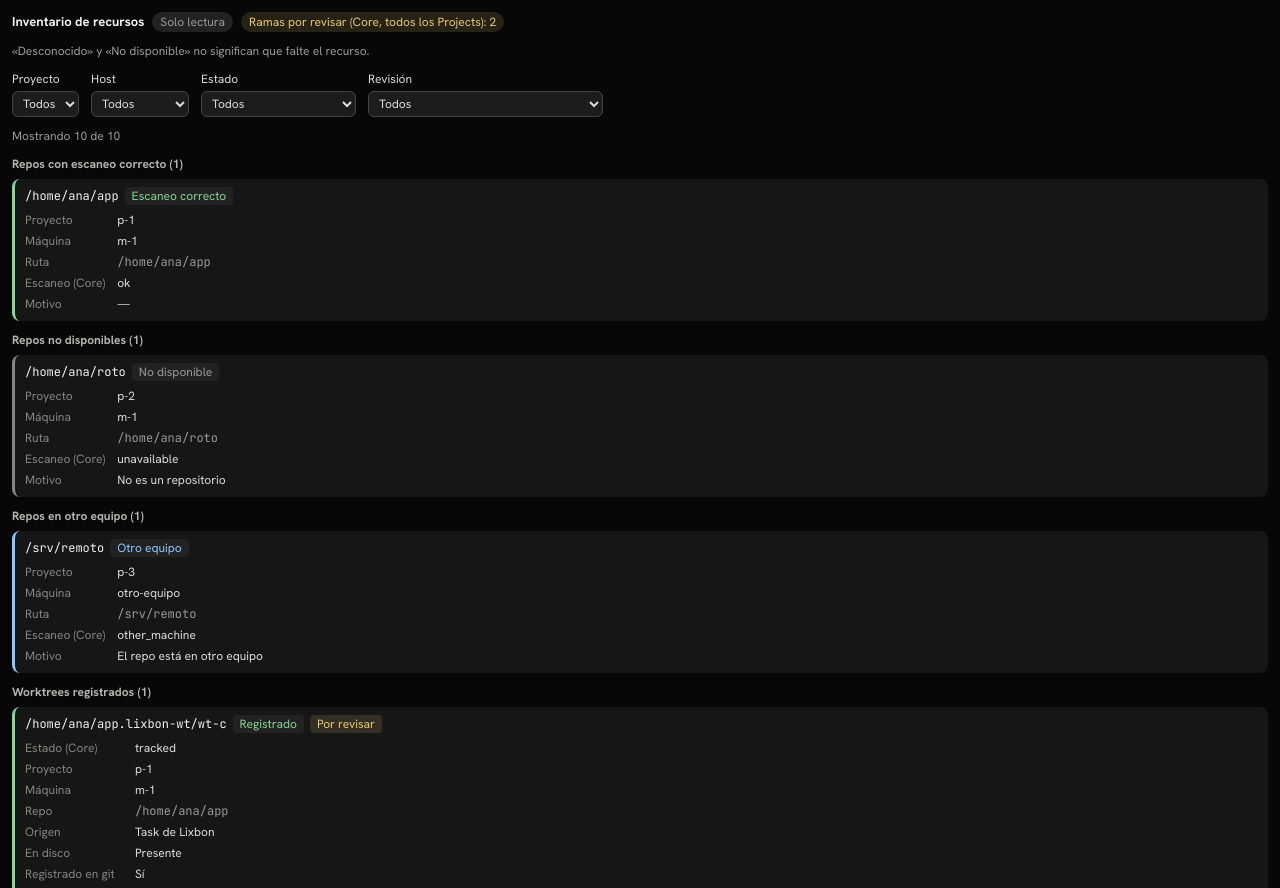
Test: ResourcesInventory · filtros › Host filtra por la máquina del target de Core, incluido otro equipo
Select "otro-equipo" in the dropdown labelled "Host" at (140, 104), box left=91, top=91, right=189, bottom=117
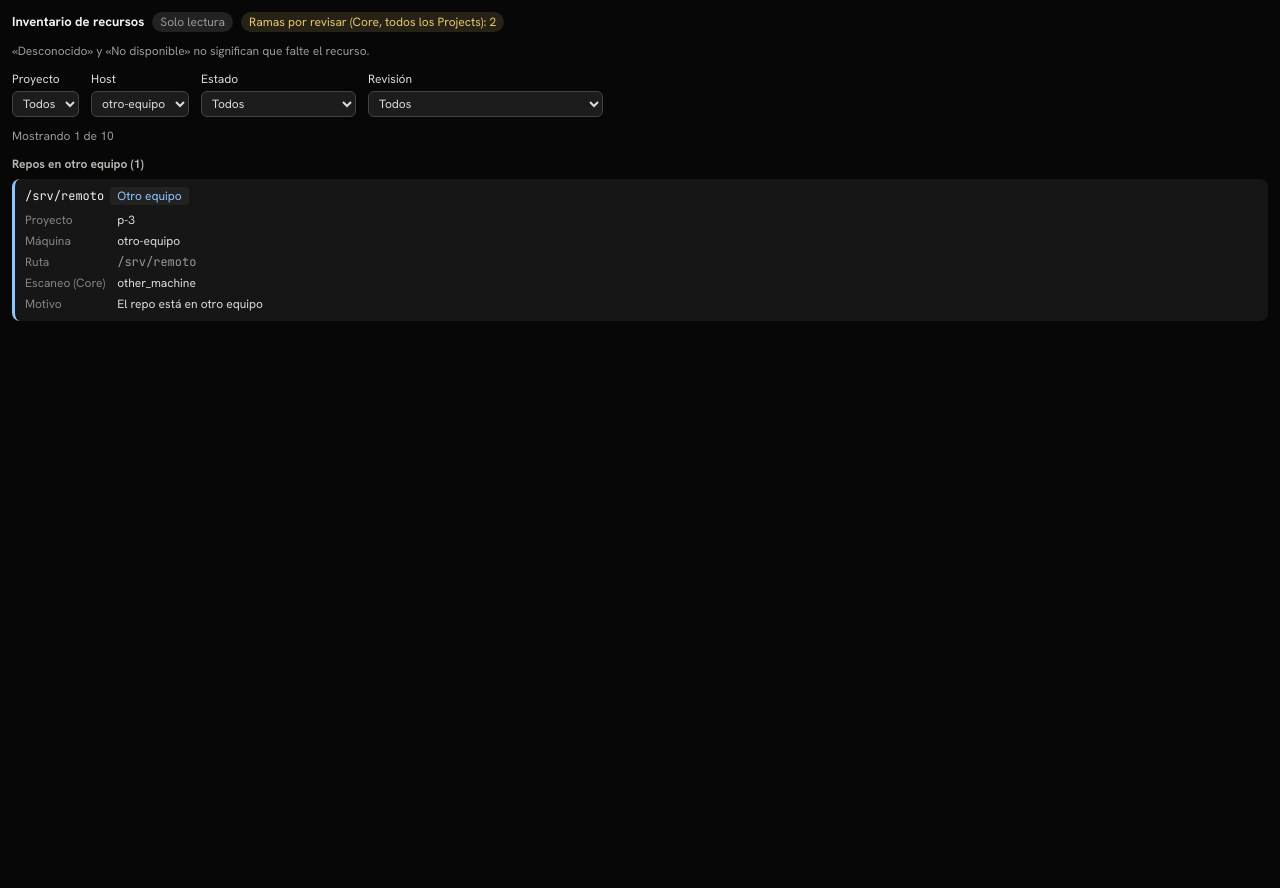
Select "m-1" in the dropdown labelled "Host" at (140, 104), box left=91, top=91, right=189, bottom=117
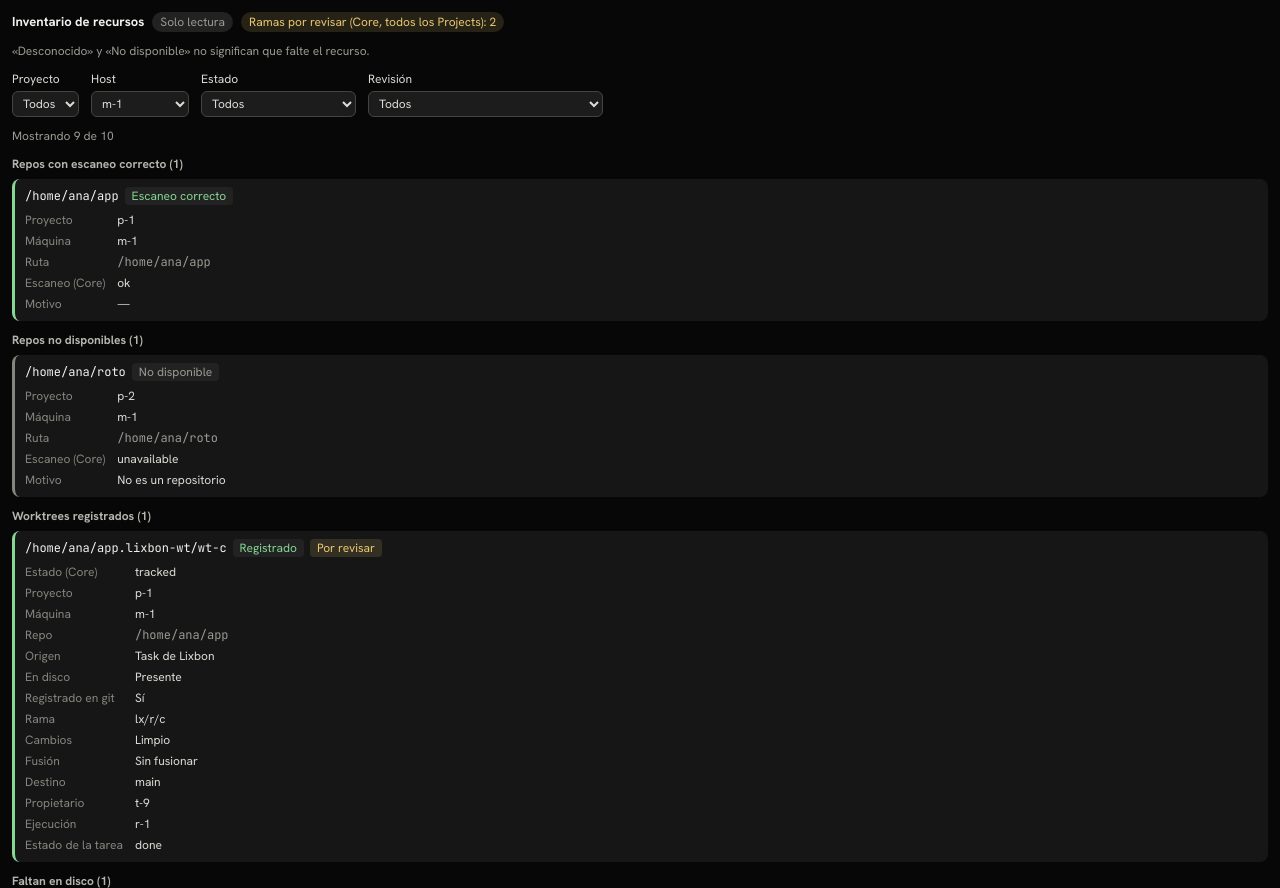
Check: the text "/srv/remoto" is gone
